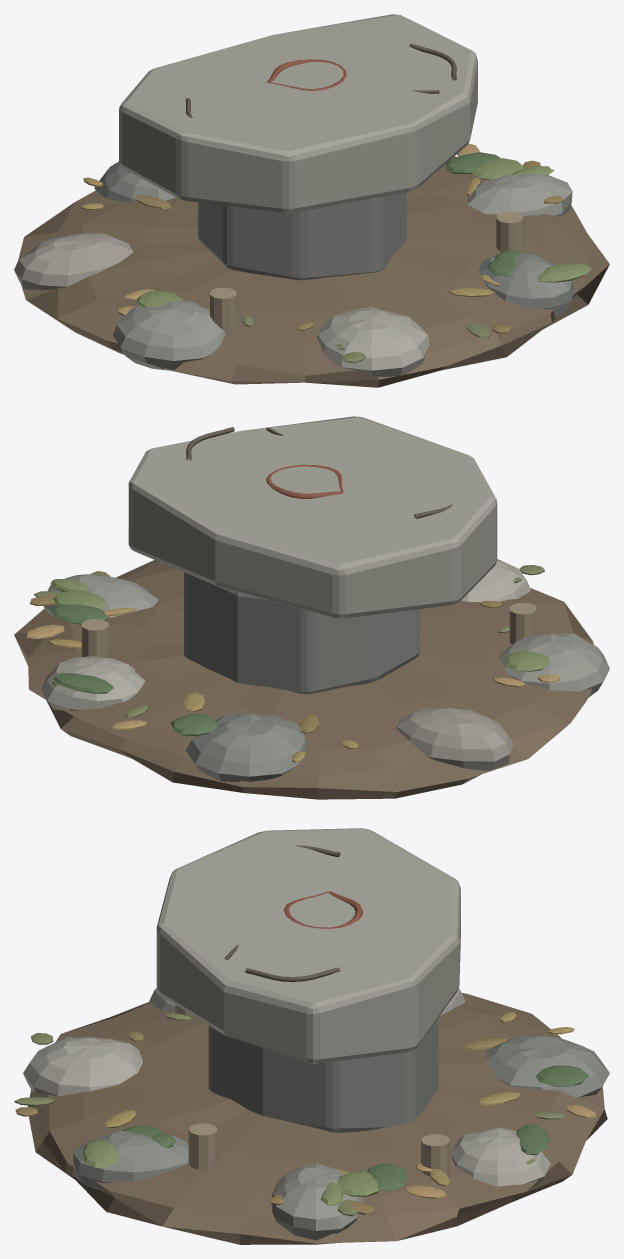
Rendered from pedra_sacrificio.glb.
3 views of the same model, one above another, from view 1: azimuth 30°, elevation 25°; view 2: azimuth 150°, elevation 25°; view 3: azimuth 270°, elevation 25° (orthographic). The views are drawn at different scales.
Parts seen in each view (by area): view 1: Tampo da pedra de sacrifício, Clareira de terra exposta, Pedestal talhado, Borda de pedra musgosa 05, Borda de pedra musgosa 04, Borda de pedra musgosa 03, Borda de pedra musgosa 00, Borda de pedra musgosa 06, Borda de pedra musgosa 02, Vela apagada 00, Vela apagada 01, Mancha de musgo 01 (+4 smaller); view 2: Tampo da pedra de sacrifício, Clareira de terra exposta, Pedestal talhado, Borda de pedra musgosa 02, Borda de pedra musgosa 03, Borda de pedra musgosa 04, Borda de pedra musgosa 01, Borda de pedra musgosa 00, Borda de pedra musgosa 05, Vela apagada 02, Vela apagada 00, Mancha de musgo 08 (+5 smaller); view 3: Clareira de terra exposta, Tampo da pedra de sacrifício, Pedestal talhado, Borda de pedra musgosa 05, Borda de pedra musgosa 02, Borda de pedra musgosa 00, Borda de pedra musgosa 01, Borda de pedra musgosa 06, Vela apagada 01, Vela apagada 02, Mancha de musgo 04, Mancha de musgo 02 (+4 smaller).
Part boxes in pixels (x1,y1,x2,y2): Tampo da pedra de sacrifício: [119, 14, 477, 213]; Clareira de terra exposta: [18, 156, 609, 387]; Pedestal talhado: [198, 192, 406, 280]; Borda de pedra musgosa 05: [316, 306, 429, 376]; Borda de pedra musgosa 04: [113, 300, 225, 370]; Borda de pedra musgosa 03: [14, 233, 133, 290]; Borda de pedra musgosa 00: [467, 173, 572, 215]; Borda de pedra musgosa 06: [479, 252, 575, 317]; Borda de pedra musgosa 02: [94, 161, 175, 202]; Vela apagada 00: [210, 287, 236, 333]; Vela apagada 01: [496, 211, 523, 252]; Mancha de musgo 01: [537, 263, 591, 282]; Tampo da pedra de sacrifício: [128, 416, 497, 618]; Clareira de terra exposta: [14, 560, 593, 799]; Pedestal talhado: [184, 572, 420, 694]; Borda de pedra musgosa 02: [185, 713, 306, 781]; Borda de pedra musgosa 03: [396, 708, 513, 770]; Borda de pedra musgosa 04: [498, 633, 609, 697]; Borda de pedra musgosa 01: [41, 656, 144, 710]; Borda de pedra musgosa 00: [43, 573, 158, 617]; Borda de pedra musgosa 05: [461, 559, 530, 602]; Vela apagada 02: [81, 619, 108, 657]; Vela apagada 00: [509, 602, 536, 644]; Mancha de musgo 08: [53, 673, 113, 693]; Clareira de terra exposta: [28, 993, 607, 1244]; Tampo da pedra de sacrifício: [156, 828, 460, 1063]; Pedestal talhado: [208, 1018, 438, 1132]; Borda de pedra musgosa 05: [23, 1037, 142, 1096]; Borda de pedra musgosa 02: [486, 1035, 609, 1098]; Borda de pedra musgosa 00: [271, 1163, 362, 1240]; Borda de pedra musgosa 01: [450, 1127, 550, 1187]; Borda de pedra musgosa 06: [72, 1130, 188, 1191]; Vela apagada 01: [188, 1123, 217, 1169]; Vela apagada 02: [421, 1134, 449, 1176]; Mancha de musgo 04: [535, 1065, 589, 1086]; Mancha de musgo 02: [337, 1171, 378, 1196].
Size of the model in its own units: 0.9452 by 0.3863 by 0.898.
